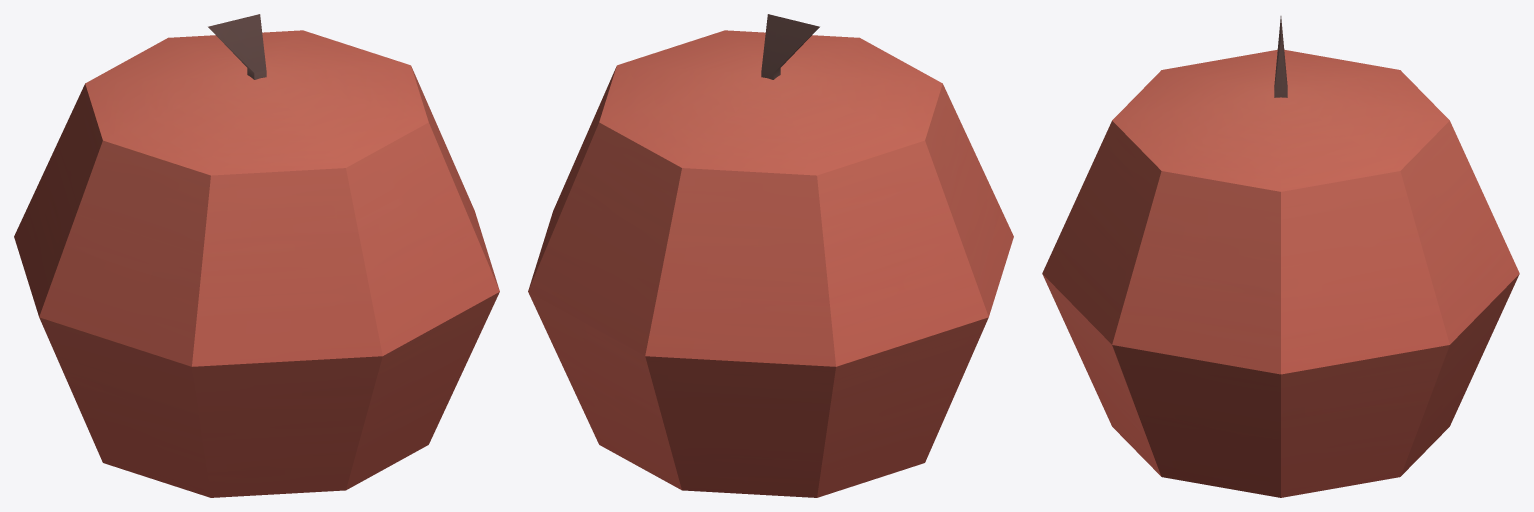
The model's file is Яблоко крсное.fbx.
The picture shows the model from 3 angles, left to right: view 1: azimuth 30°, elevation 25°; view 2: azimuth 150°, elevation 25°; view 3: azimuth 270°, elevation 25°; orthographic projection. The views are drawn at different scales.
Visible parts, largest first — view 1: Яблоко_крсное; view 2: Яблоко_крсное; view 3: Яблоко_крсное.
Part boxes in pixels (<box>): Яблоко_крсное: <box>14,14,499,497</box>; Яблоко_крсное: <box>528,14,1013,497</box>; Яблоко_крсное: <box>1042,16,1519,497</box>.
Size of the model in its own units: 12.98 by 12.37 by 12.98.
